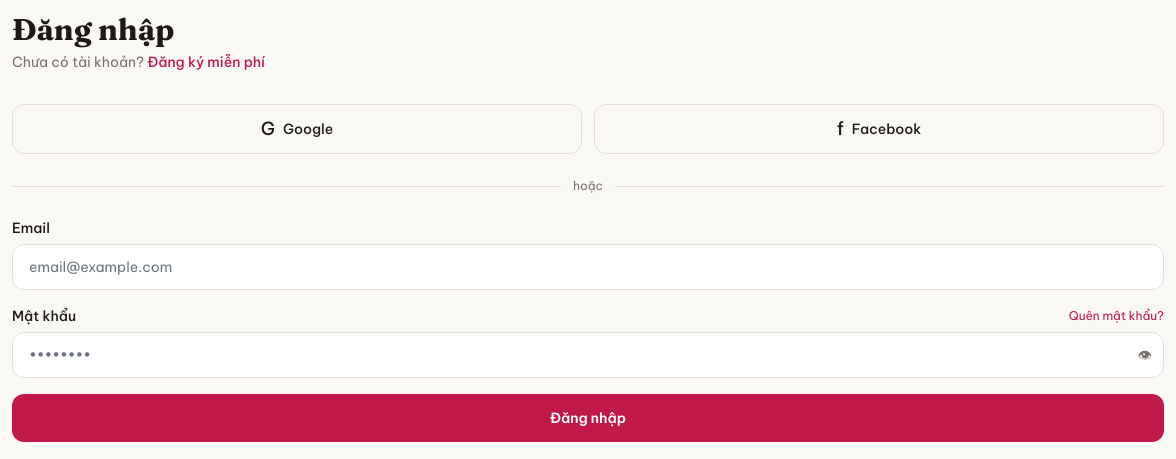
Test: LoginPage.vue › disables submit button while loading
Type "test@example.com" into the field labelled "Email" at point(588, 267), box [12,244,1164,290]
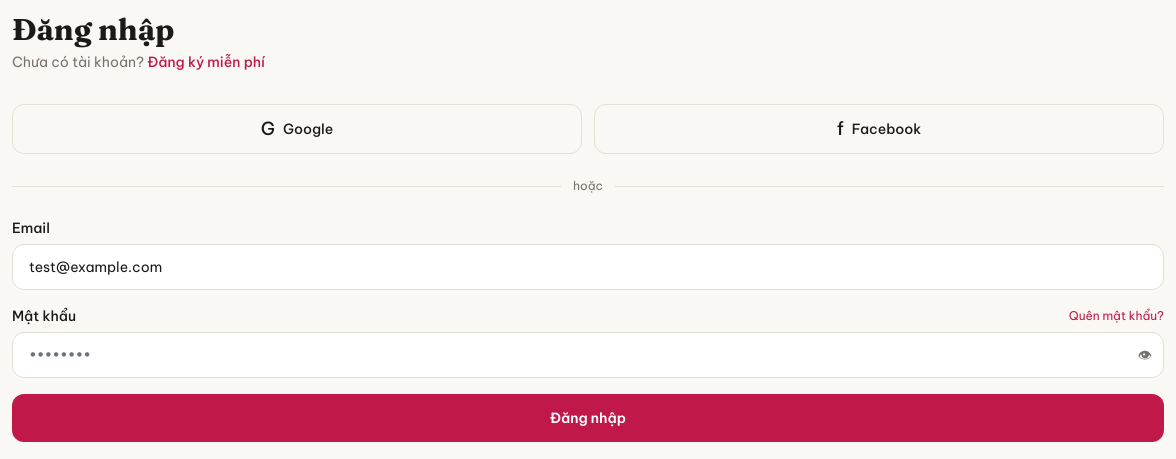
Type "password123" into the password field labelled "Mật khẩu" at point(588, 355), box [12,332,1164,378]
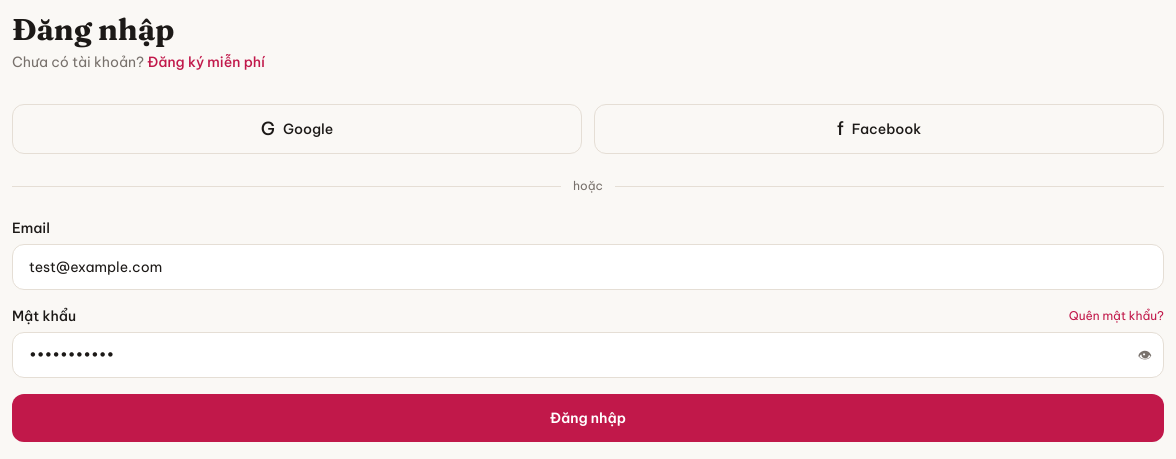
Submit the form, box [12,218,1164,442]
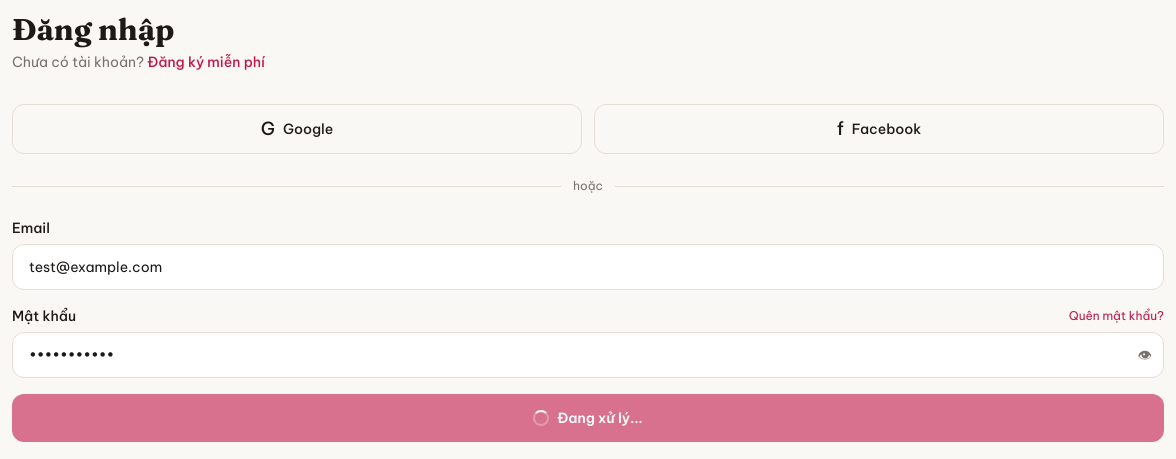
Result: the submit button is disabled at [12,394,1164,442]
Result: the text "Đang xử lý" is shown at [557,409,643,427]
